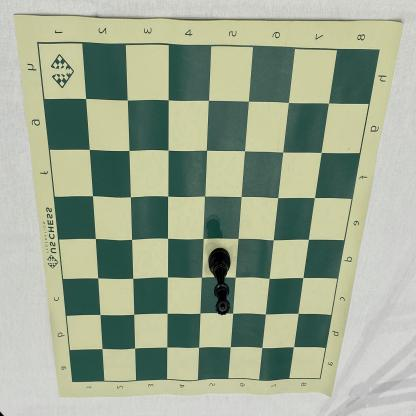black-queen: (207, 246, 232, 316)
